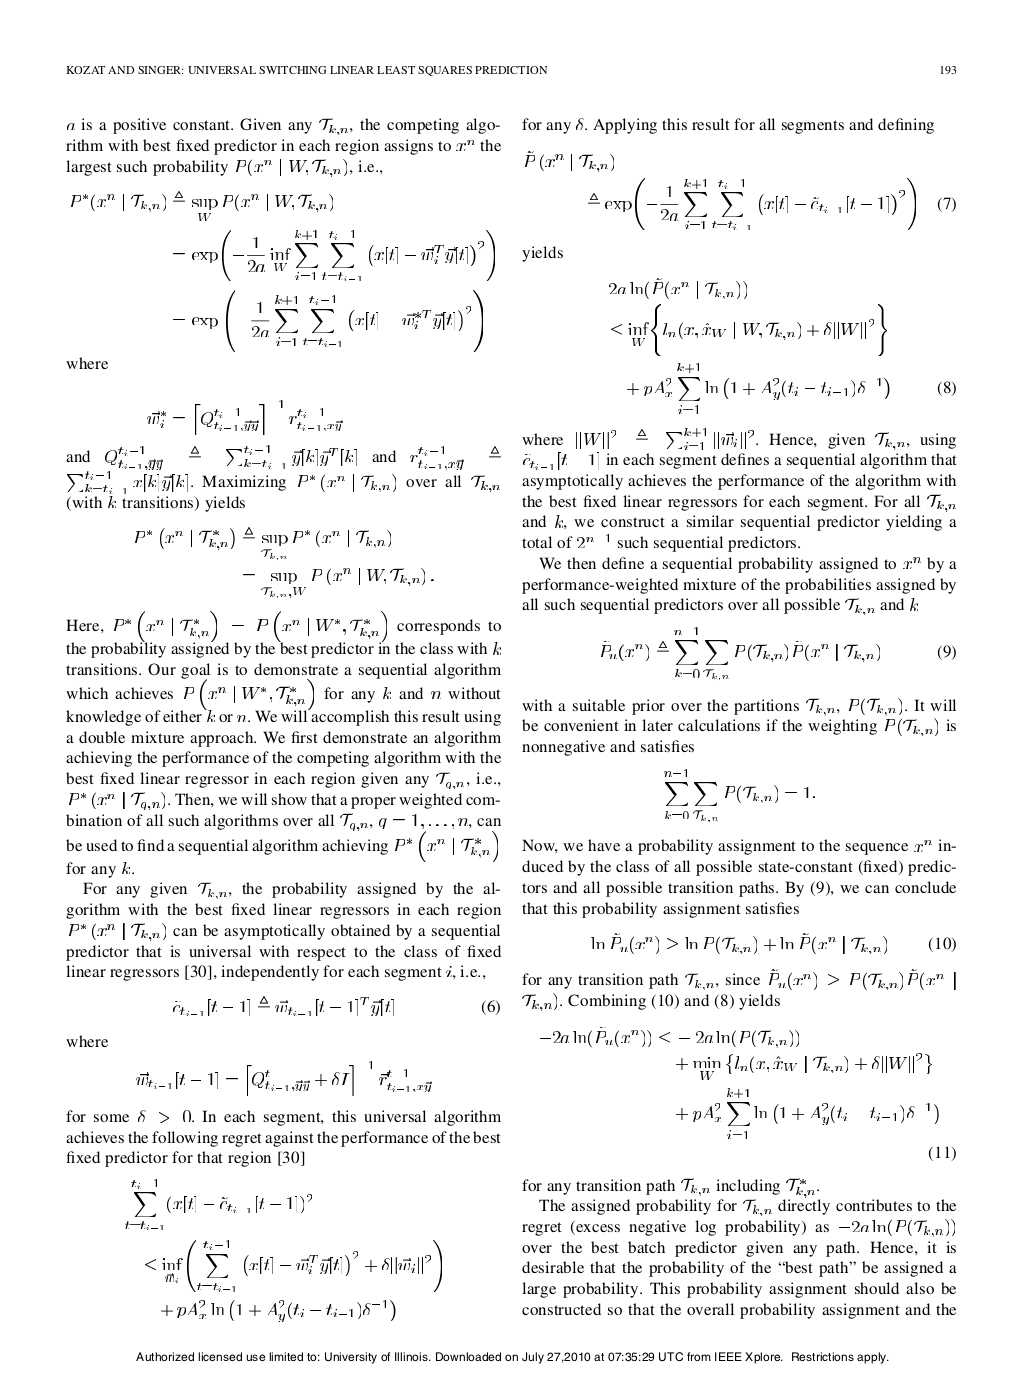formula: (587, 177, 955, 230), (173, 289, 481, 352), (600, 628, 955, 679), (173, 229, 494, 281), (628, 364, 955, 413), (145, 1239, 441, 1292), (611, 302, 886, 356), (676, 1088, 938, 1138), (136, 1060, 431, 1096), (126, 1179, 311, 1229), (135, 526, 389, 562), (591, 932, 955, 954), (71, 190, 332, 221), (664, 769, 814, 821), (676, 1052, 930, 1080), (147, 399, 342, 435), (173, 995, 499, 1016), (243, 567, 433, 599), (161, 1298, 395, 1322), (540, 1029, 798, 1048), (609, 280, 747, 299), (525, 150, 613, 172)
